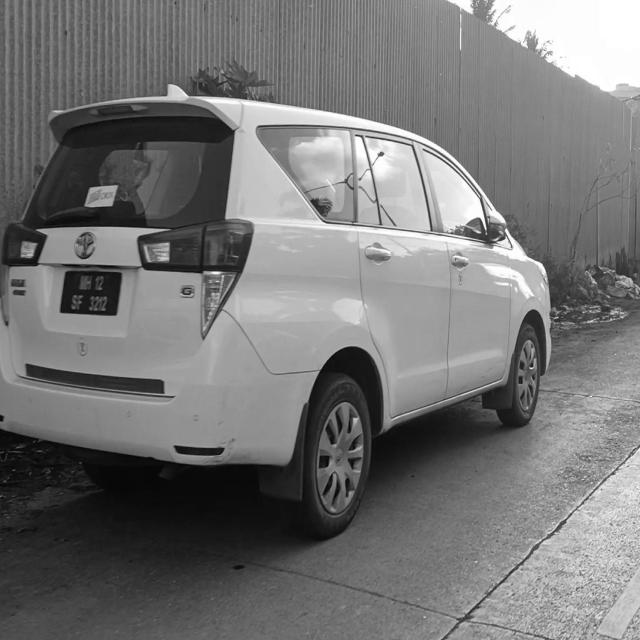car: (2, 92, 554, 538)
license-plate: (61, 268, 121, 317)
